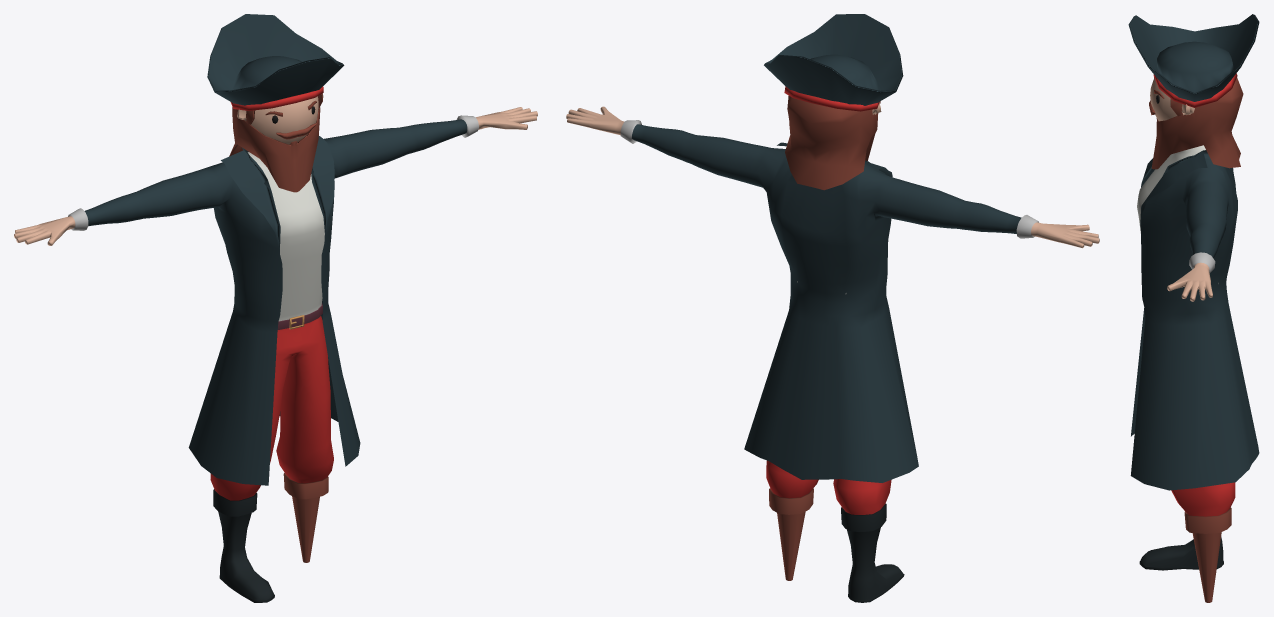
File: Low Poly Pirate Model.fbx
3 renders of one model, left to right at view 1: azimuth 30°, elevation 25°; view 2: azimuth 150°, elevation 25°; view 3: azimuth 270°, elevation 25°, orthographic. The views are drawn at different scales.
Parts seen in each view (by area): view 1: polySurface26, Character02_correction:polySurface27, polySurface36, polySurface29, polySurface31, polySurface34; view 2: polySurface26, polySurface36, Character02_correction:polySurface27, polySurface31, pPipe1; view 3: polySurface26, polySurface36, Character02_correction:polySurface27, polySurface31, polySurface29, polySurface34, pPipe1.
Boxes of the visible parts, x1=… form: polySurface26: x1=14, y1=107, x2=537, y2=485; Character02_correction:polySurface27: x1=210, y1=316, x2=333, y2=602; polySurface36: x1=207, y1=14, x2=344, y2=105; polySurface29: x1=247, y1=152, x2=324, y2=321; polySurface31: x1=229, y1=94, x2=322, y2=192; polySurface34: x1=237, y1=93, x2=323, y2=144; polySurface26: x1=566, y1=106, x2=1099, y2=482; polySurface36: x1=764, y1=14, x2=903, y2=105; Character02_correction:polySurface27: x1=766, y1=460, x2=904, y2=602; polySurface31: x1=785, y1=96, x2=880, y2=190; pPipe1: x1=784, y1=86, x2=879, y2=111; polySurface26: x1=1130, y1=150, x2=1259, y2=490; polySurface36: x1=1128, y1=14, x2=1259, y2=101; Character02_correction:polySurface27: x1=1139, y1=482, x2=1235, y2=602; polySurface31: x1=1151, y1=77, x2=1243, y2=169; polySurface29: x1=1137, y1=145, x2=1218, y2=283; polySurface34: x1=1150, y1=78, x2=1194, y2=121; pPipe1: x1=1153, y1=73, x2=1237, y2=107.
Bounding box in the file's own units: 841 × 176 × 834.
